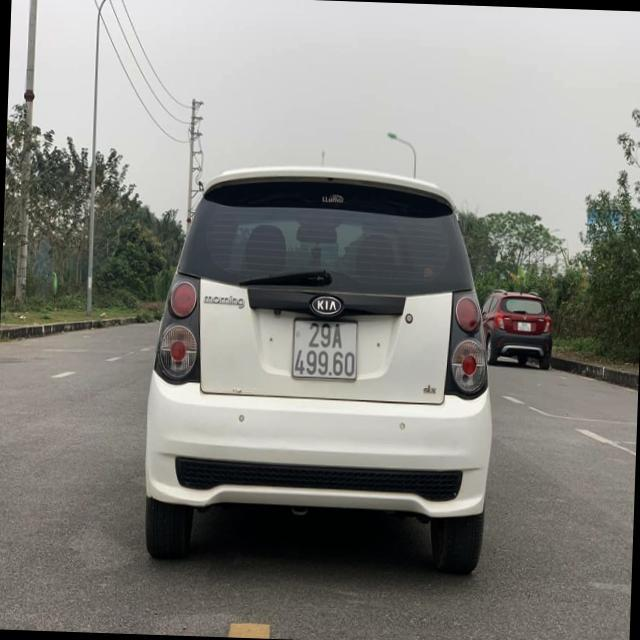car: (142, 162, 488, 578), (478, 286, 557, 372)
plate: (282, 313, 368, 384), (492, 293, 551, 362), (503, 313, 545, 341), (512, 318, 537, 337)
